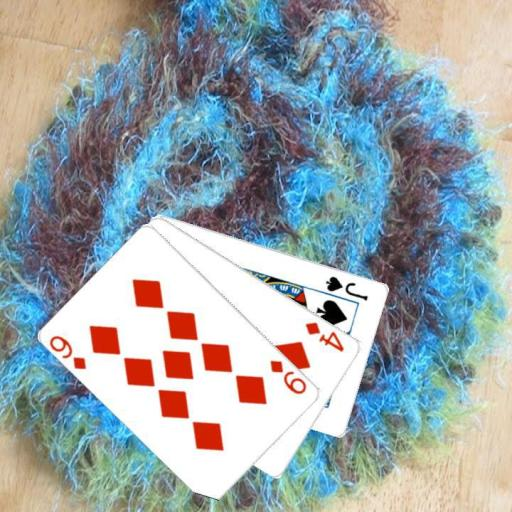4D: (303, 318, 347, 353)
9D: (46, 332, 88, 371), (268, 357, 309, 396)
JS: (323, 273, 370, 303)
